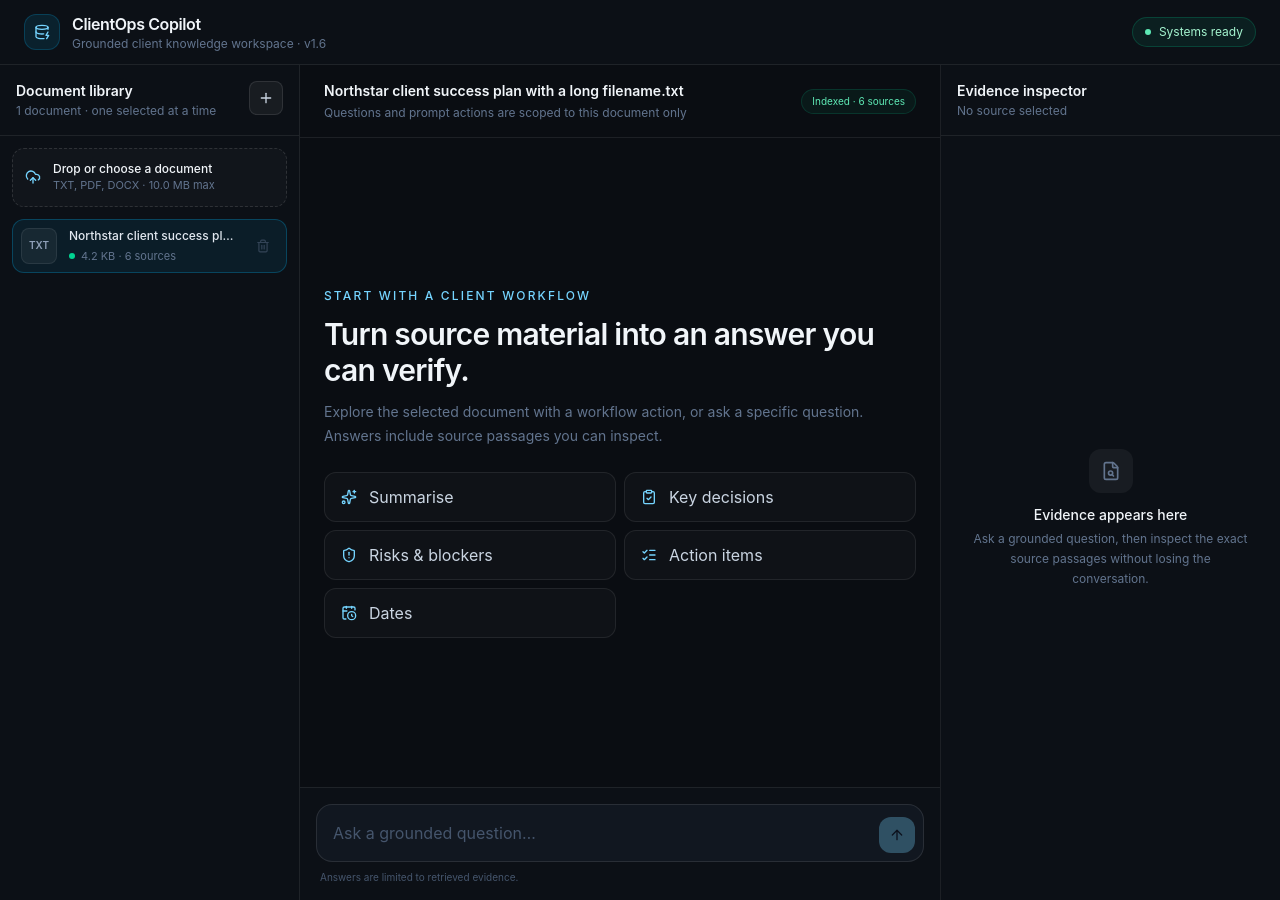
Test: ClientOps workspace › keeps insufficient_evidence visually distinct
Expected: the text "Start with a client workflow" is shown, [324, 288, 591, 302]
What coordinates should you click on to do the following:
click the button "Summarise"
I would click on:
 (411, 496)
Its box is [324, 472, 616, 522].
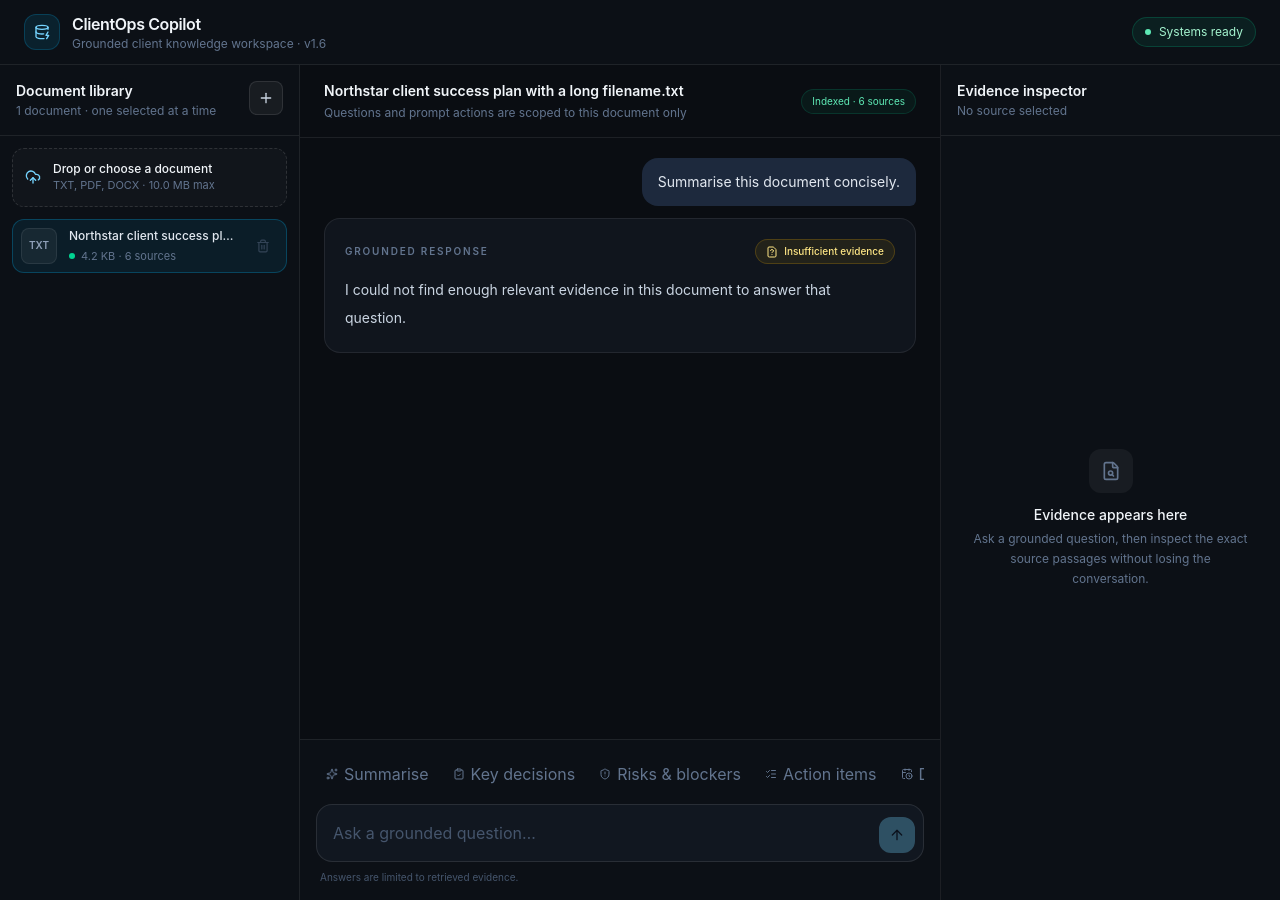
Now the text "Insufficient evidence" is shown, box [755, 239, 895, 264]
